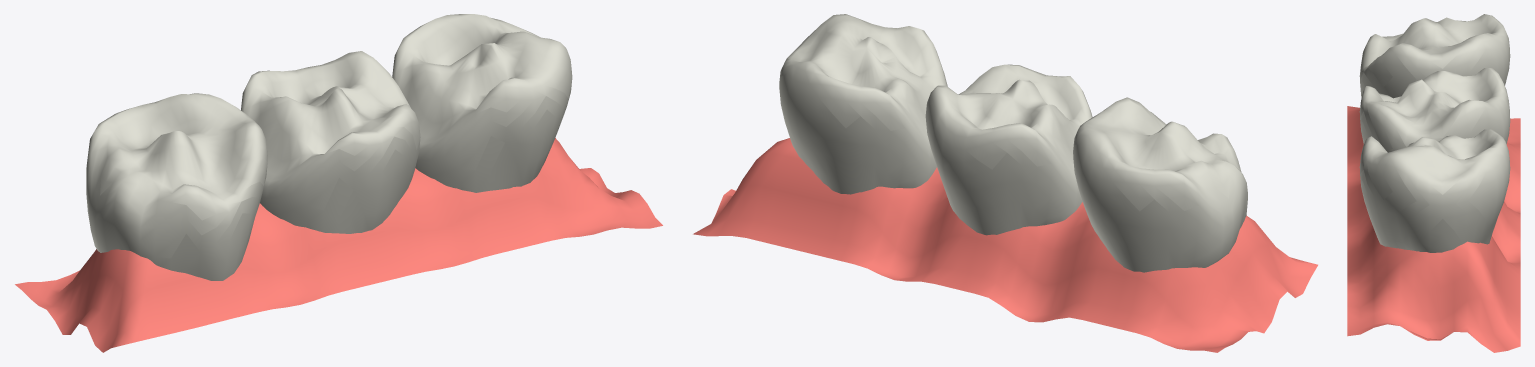
The model's file is human_teeth (1).glb.
The picture shows the model from 3 angles, left to right: view 1: azimuth 30°, elevation 25°; view 2: azimuth 150°, elevation 25°; view 3: azimuth 270°, elevation 25°; orthographic projection. The views are drawn at different scales.
Visible parts, largest first — view 1: Mesh2_FrontColor_0, Mesh1__LightSalmon__0; view 2: Mesh2_FrontColor_0, Mesh1__LightSalmon__0; view 3: Mesh2_FrontColor_0, Mesh1__LightSalmon__0.
Part boxes in pixels (x1,y1,x2,y2): Mesh2_FrontColor_0: (86, 14, 572, 280); Mesh1__LightSalmon__0: (15, 138, 662, 352); Mesh2_FrontColor_0: (779, 14, 1247, 272); Mesh1__LightSalmon__0: (693, 138, 1317, 352); Mesh2_FrontColor_0: (1359, 14, 1510, 252); Mesh1__LightSalmon__0: (1347, 106, 1520, 352).
Bounding box in the file's own units: 19.5 × 6.94 × 6.5.
